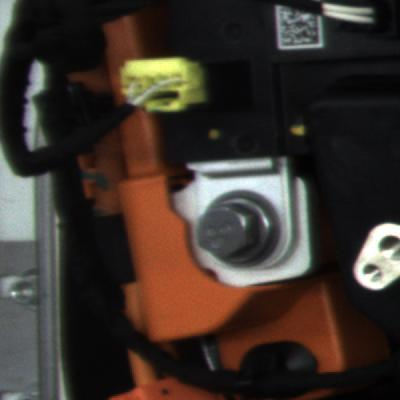nut_b: (200, 176, 293, 263)
